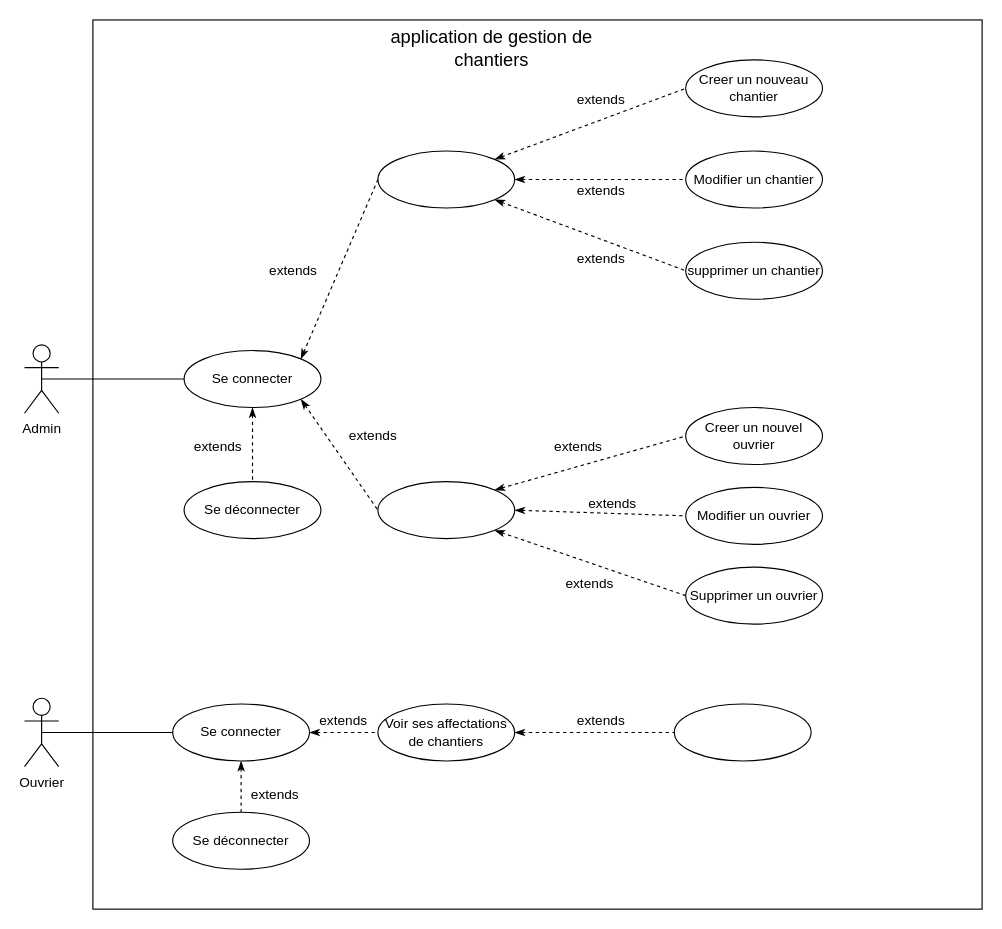
Some shapes in this 1002 by 929 pixel diagram are drawn without their labels. The box of each missing label's shape, as (x1, y1, x2, y2) in pixels:
Consulter les chantiers existants: (377, 150, 515, 208)
Consulter les détails d'un chantier: (673, 703, 811, 761)
Consulter les ouvriers: (377, 481, 515, 539)
